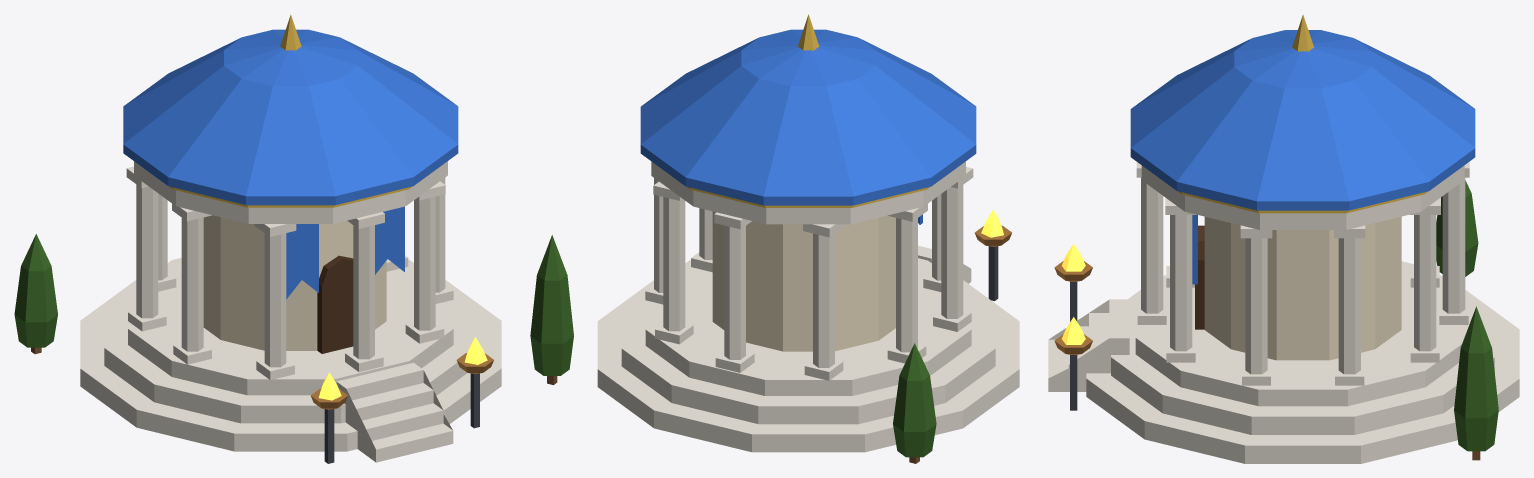
Rendered from bld_temple.glb.
3 views of the same model, side by side, from view 1: azimuth 30°, elevation 25°; view 2: azimuth 150°, elevation 25°; view 3: azimuth 270°, elevation 25° (orthographic). The views are drawn at different scales.
Visible parts, largest first — view 1: bld_temple; view 2: bld_temple; view 3: bld_temple.
Boxes of the visible parts, <box> form: bld_temple: <box>14,14,501,463</box>; bld_temple: <box>530,14,1019,463</box>; bld_temple: <box>1048,14,1519,463</box>.
Size of the model in its own units: 0.4481 by 0.388 by 0.4625.
